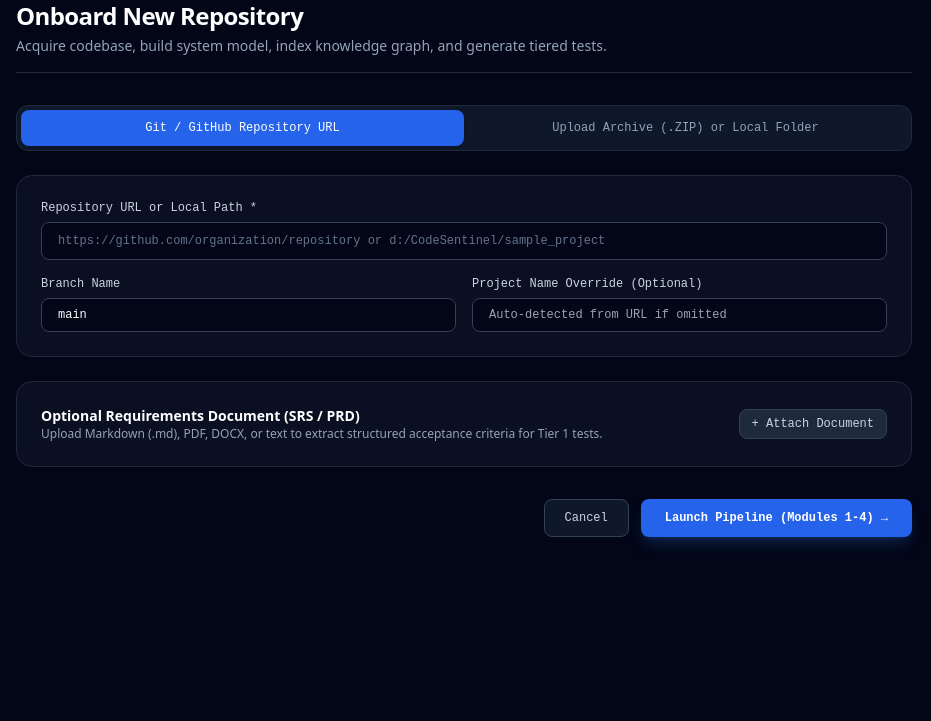
Test: Navigation & Project Creation Suite › CreateProjectPage initiates pipeline and polls through queued -> running -> completed states
# Fill in repository URL
Replace the text in the field with placeholder "https://github.com" with "https://github.com/fastapi/fastapi". click: (464, 241)
box: [41,222,887,260]
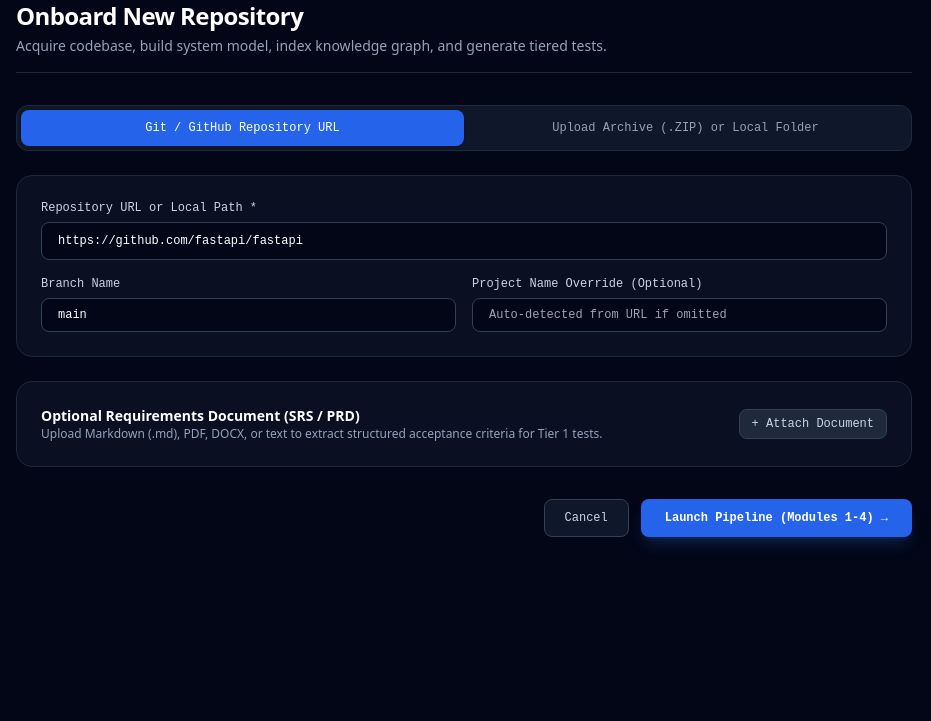
# Submit form
Click the button "Launch Pipeline (Modules 1-4) →". click: (776, 518)
box: [641,499,912,537]
(page scrolled)
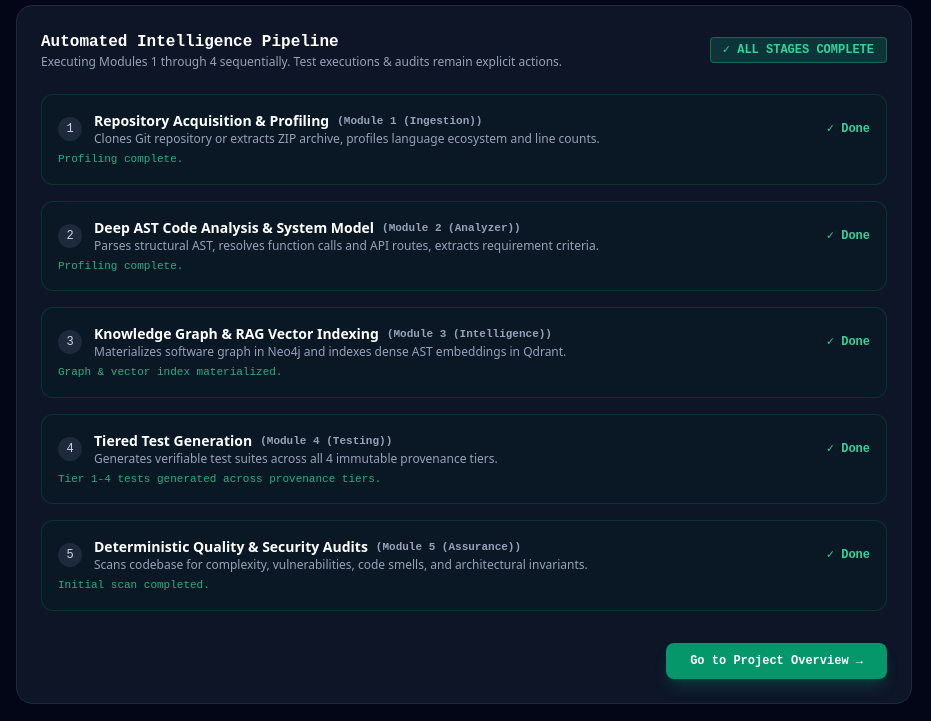
Now the heading "Automated Intelligence Pipeline" is shown, box [41,33,339,51]
Now the text "Repository Acquisition & Profiling" is shown, box [94,111,329,130]
Now the text "Deep AST Code Analysis & System Model" is shown, box [94,218,374,236]
